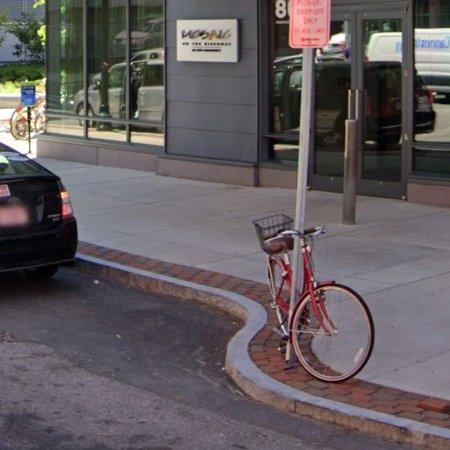bicycles: (291, 284, 375, 382)
